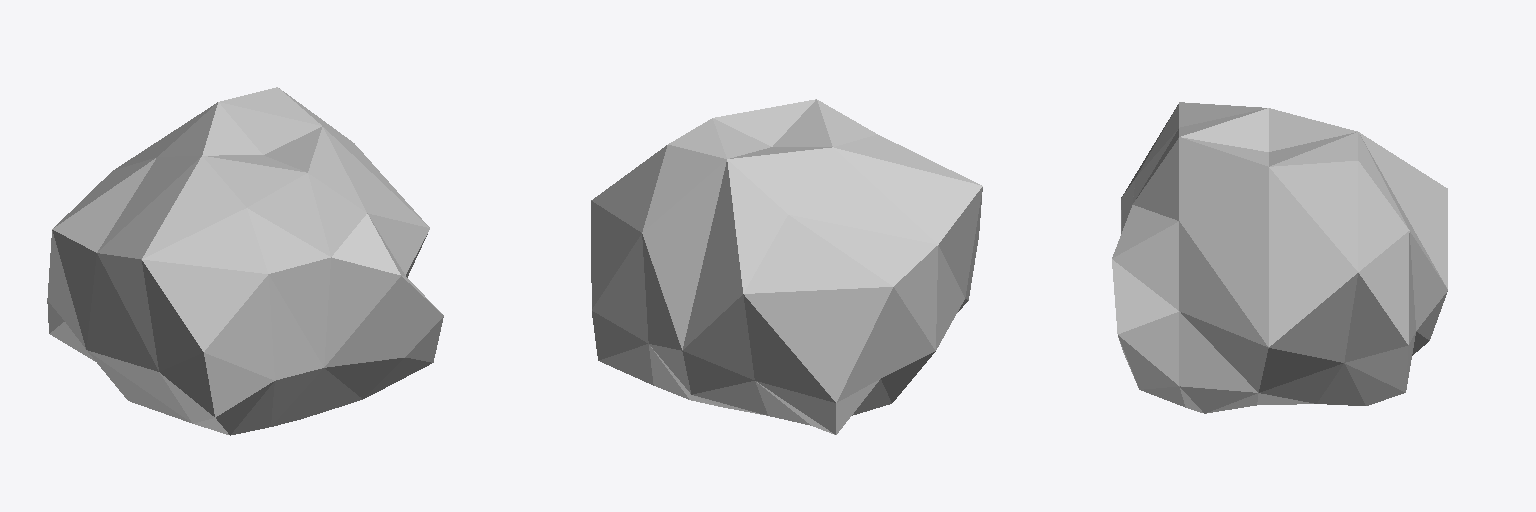
File: rock.obj
3 views of the same model, side by side, from view 1: azimuth 30°, elevation 25°; view 2: azimuth 150°, elevation 25°; view 3: azimuth 270°, elevation 25° (orthographic).
Parts seen in each view (by area): view 1: Rock; view 2: Rock; view 3: Rock.
Boxes of the visible parts, x1=… form: Rock: x1=47, y1=87, x2=443, y2=435; Rock: x1=591, y1=99, x2=982, y2=434; Rock: x1=1112, y1=102, x2=1447, y2=413.
Size of the model in its own units: 2.18 by 1.55 by 1.88.